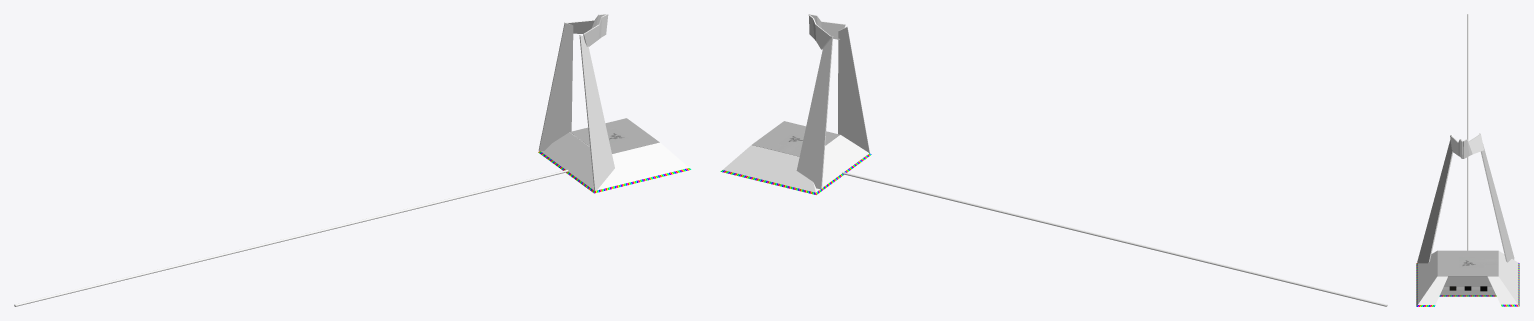
File: base-station.glb
3 renders of one model, left to right at view 1: azimuth 30°, elevation 25°; view 2: azimuth 150°, elevation 25°; view 3: azimuth 270°, elevation 25°, orthographic. The views are drawn at different scales.
Visible parts, largest first — view 1: Cube_8, Plane.004_0, Plane.005_1, Cylinder_7, Plane.003_9; view 2: Cube_8, Plane.004_0, Plane.005_1, Cylinder_7, Plane.003_9; view 3: Cube_8, Plane.003_9, Plane.005_1, Plane.004_0, Cylinder_7, Plane.006_2, Plane.007_3.
Part boxes in pixels (x1,y1,x2,y2): Cube_8: [538, 132, 691, 193]; Plane.004_0: [538, 22, 573, 150]; Plane.005_1: [579, 35, 614, 190]; Cylinder_7: [14, 169, 568, 306]; Plane.003_9: [570, 118, 659, 153]; Cube_8: [720, 135, 871, 194]; Plane.004_0: [796, 36, 833, 188]; Plane.005_1: [838, 26, 869, 153]; Cylinder_7: [841, 171, 1387, 306]; Plane.003_9: [752, 121, 839, 156]; Cube_8: [1416, 250, 1519, 306]; Plane.003_9: [1437, 250, 1498, 276]; Plane.005_1: [1417, 134, 1453, 263]; Plane.004_0: [1478, 133, 1514, 262]; Cylinder_7: [1467, 14, 1468, 250]; Plane.006_2: [1462, 134, 1483, 158]; Plane.007_3: [1450, 135, 1462, 158].
Size of the model in its own units: 36.44 by 8.19 by 5.48.
Materials: 7 (2 with a texture image).
